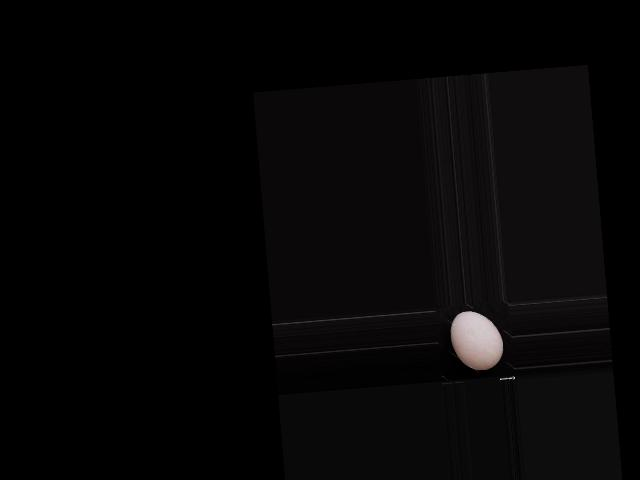egg: (448, 308, 504, 372)
